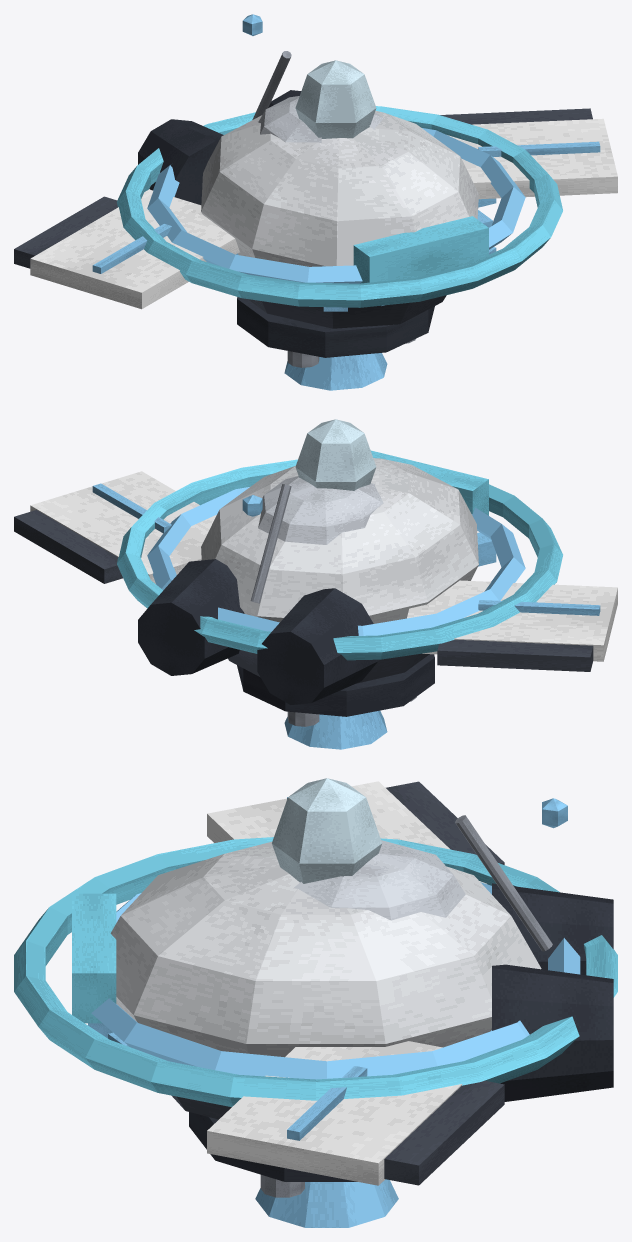
The model's file is drone_cryo.glb.
The picture shows the model from 3 angles, top to bottom: view 1: azimuth 30°, elevation 25°; view 2: azimuth 150°, elevation 25°; view 3: azimuth 270°, elevation 25°; orthographic projection. The views are drawn at different scales.
Visible parts, largest first — view 1: drone_cryo, halo; view 2: drone_cryo, halo; view 3: drone_cryo, halo.
Boxes of the visible parts, <box> form: drone_cryo: <box>14,14,617,390</box>; halo: <box>117,106,562,307</box>; drone_cryo: <box>14,419,617,749</box>; halo: <box>117,459,562,660</box>; drone_cryo: <box>72,778,613,1227</box>; halo: <box>14,837,617,1106</box>.
Size of the model in its own units: 1.64 by 0.84 by 1.09.
Materials: 2 (2 with a texture image).
